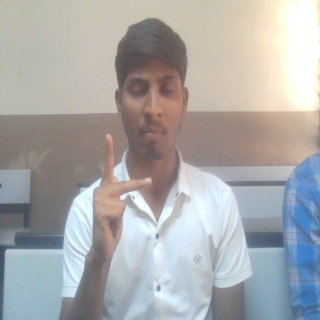Face: (114, 17, 189, 162)
Okay: (89, 133, 154, 268)
